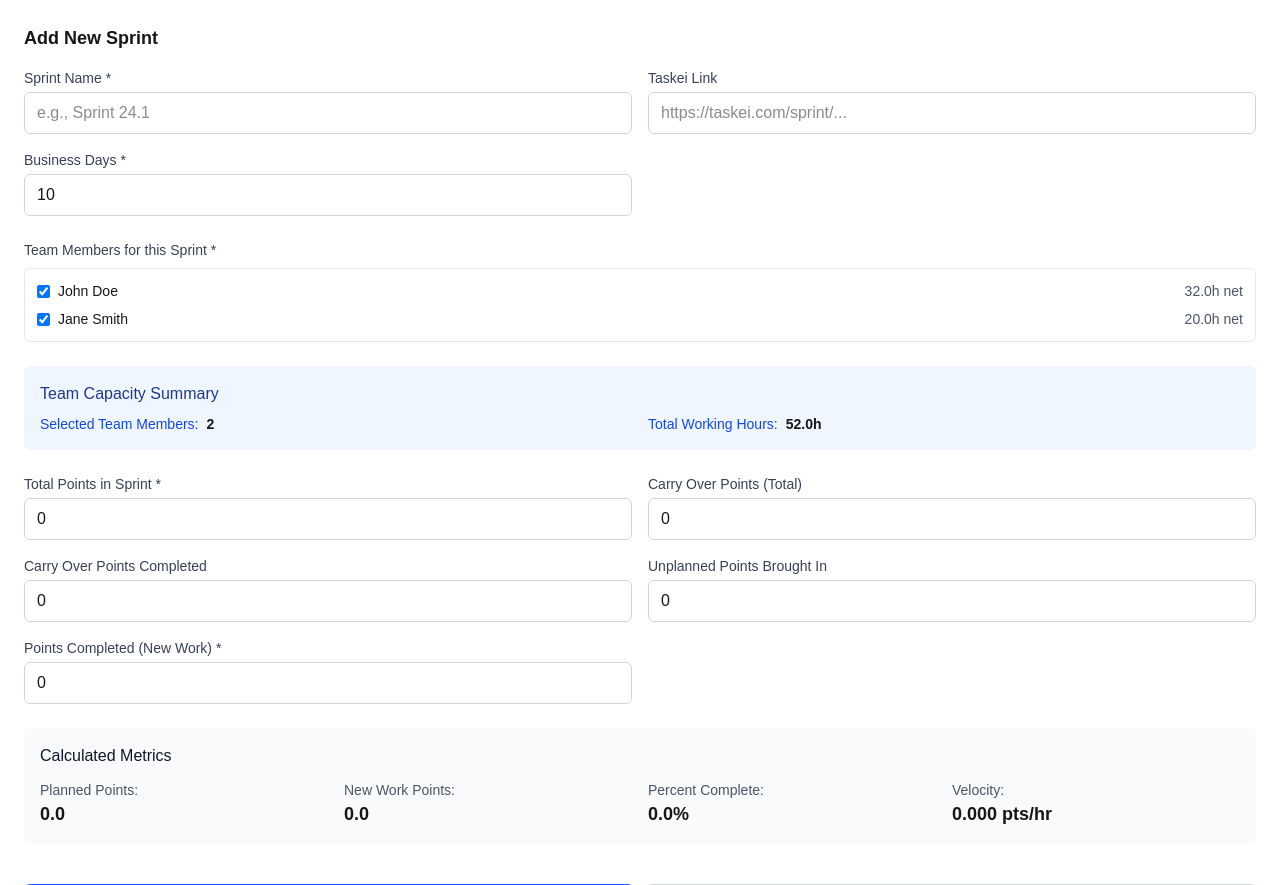
Test case: SprintForm › should update working hours when team member selection changes
Expected: the text "52.0h" is shown, [786,416,822,432]
// Uncheck Jane Smith
Click the checkbox labelled "Jane Smith" at {"x": 44, "y": 319}, box [37,312,50,326]
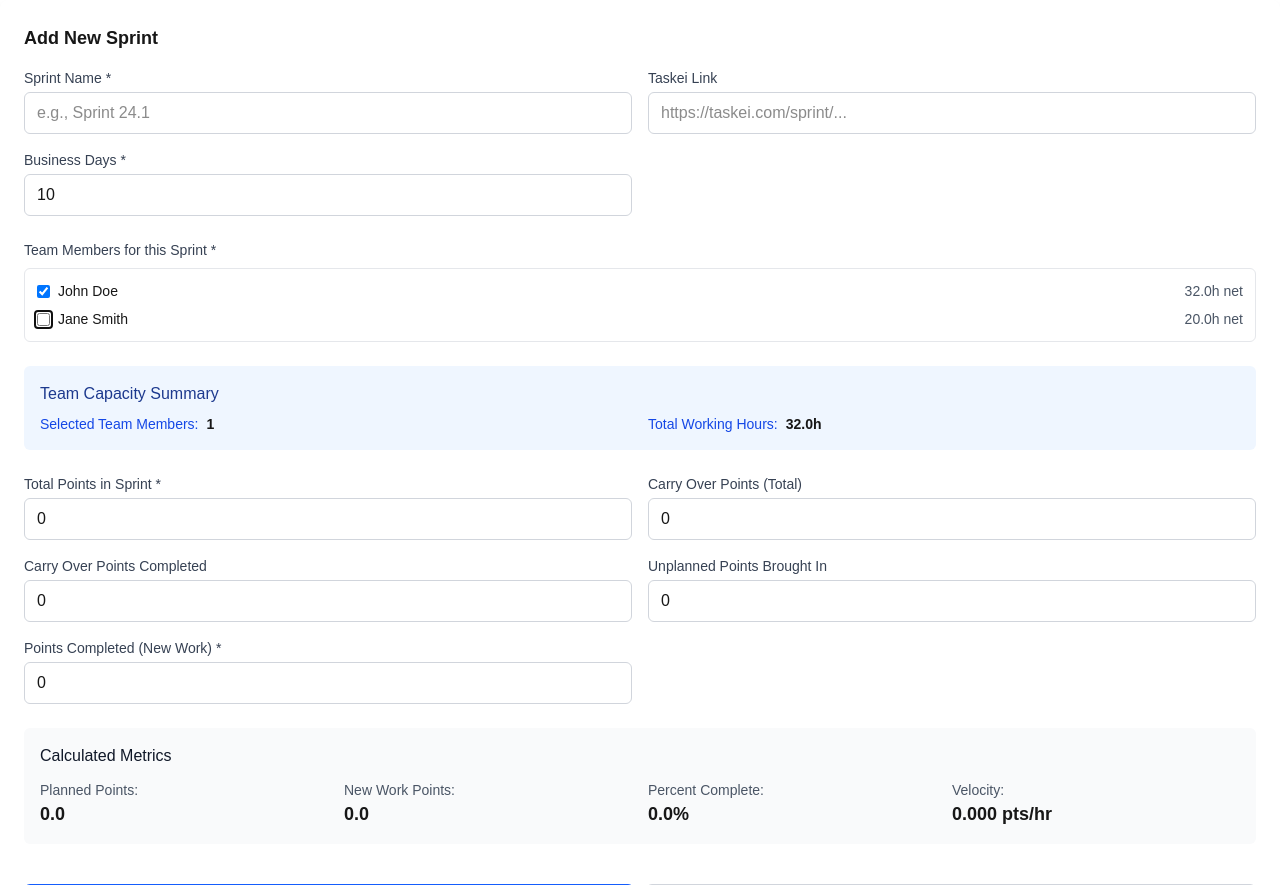
Expected: the text "32.0h" is shown, [786,416,822,432]
Expected: the text "1" is shown, [206,416,214,432]
